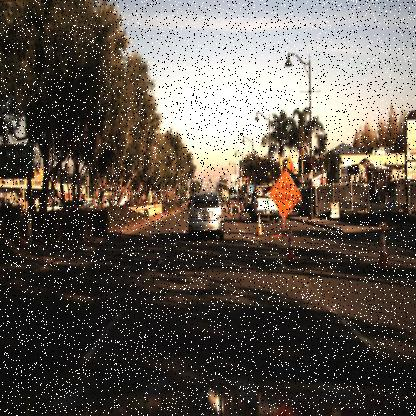car: (188, 188, 225, 239), (248, 182, 281, 224)
